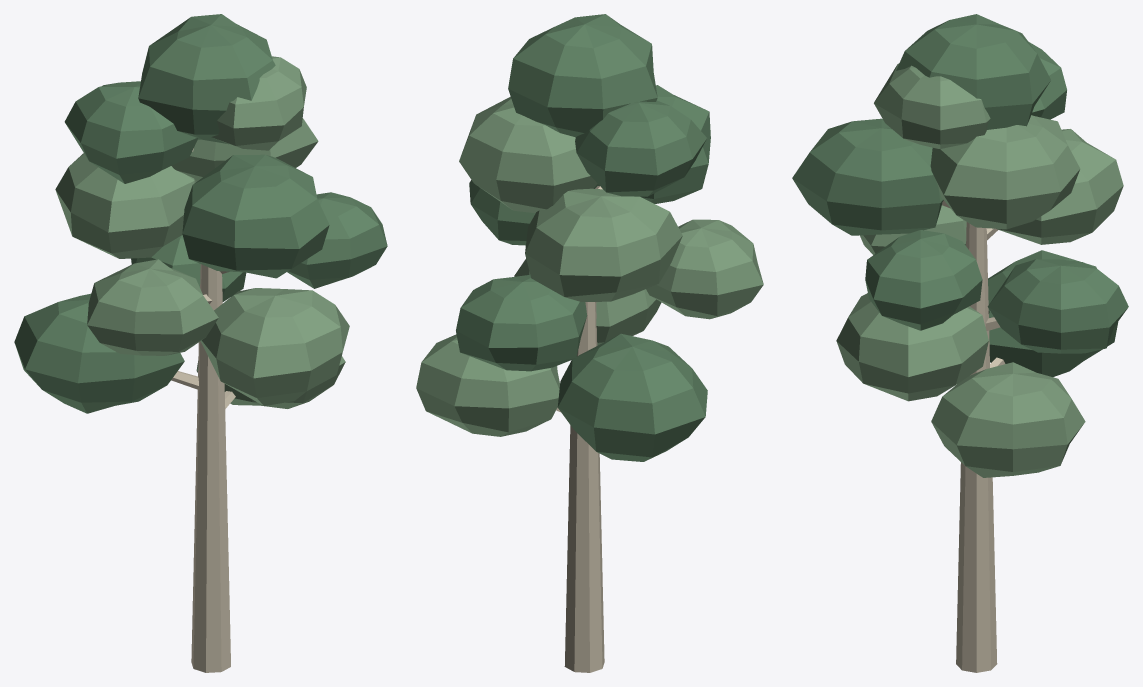
The model's file is tree_eucalyptus_large.glb.
3 views of the same model, side by side, from view 1: azimuth 30°, elevation 25°; view 2: azimuth 150°, elevation 25°; view 3: azimuth 270°, elevation 25° (orthographic).
Visible parts, largest first — view 1: tree_eucalyptus_large; view 2: tree_eucalyptus_large; view 3: tree_eucalyptus_large.
Part boxes in pixels (x1,y1,x2,y2): tree_eucalyptus_large: (14,14,387,672); tree_eucalyptus_large: (416,14,763,672); tree_eucalyptus_large: (792,14,1128,672).
Bounding box in the file's own units: 9 × 18.53 × 8.84.
